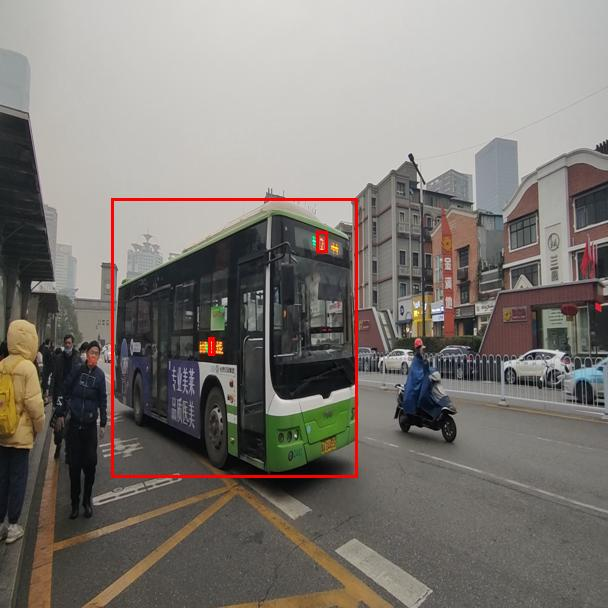bus: (111, 198, 357, 477)
screen: (316, 231, 327, 252), (208, 337, 214, 355)
